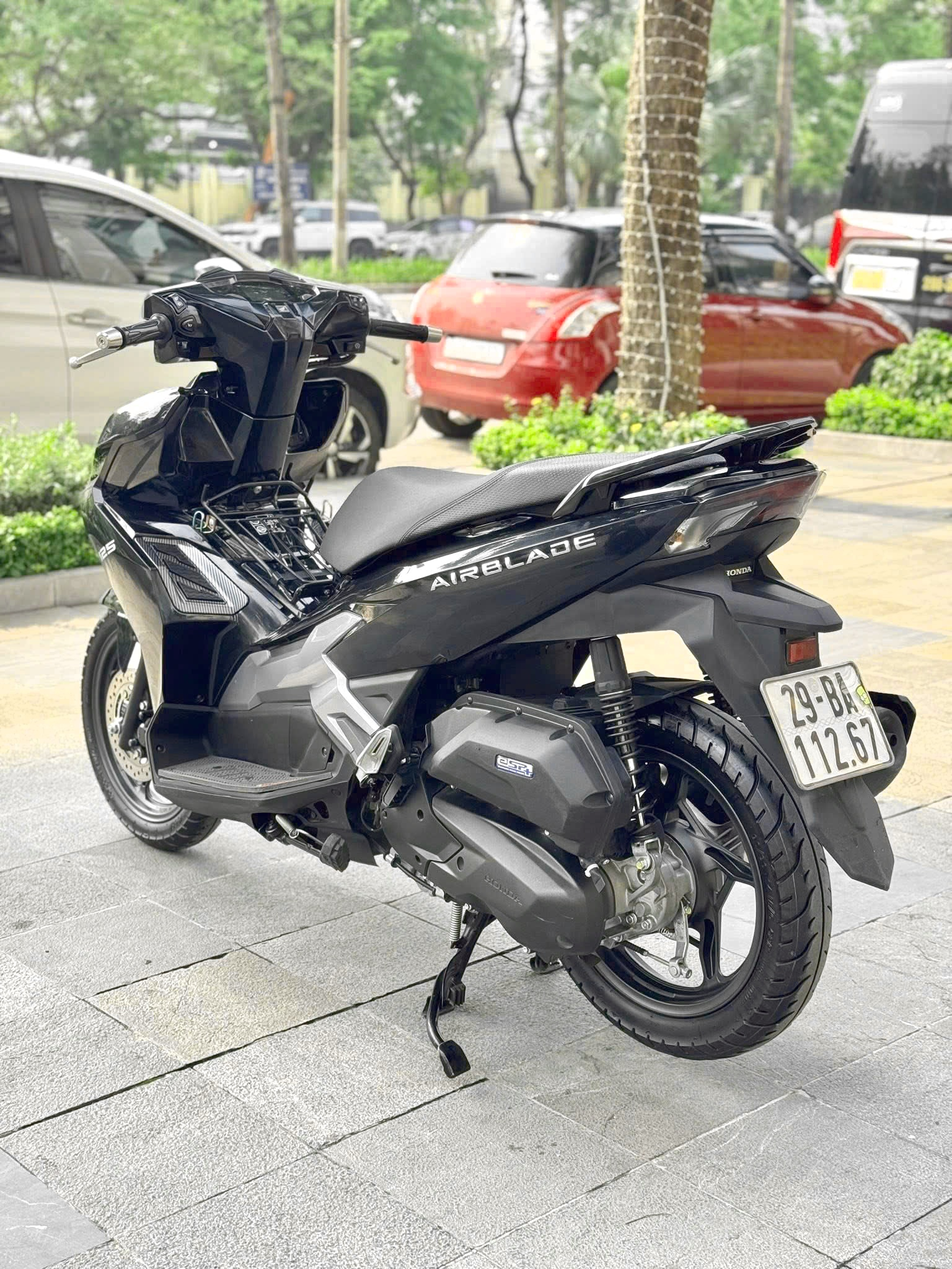Bien-so: (782, 695, 921, 834)
